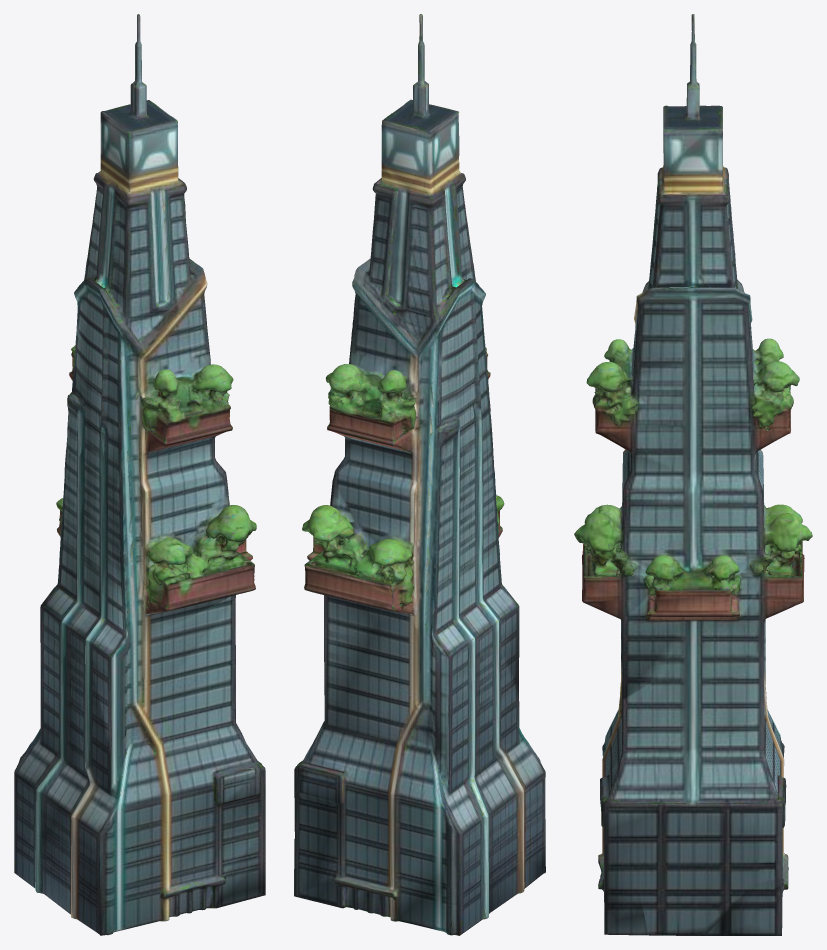
The model's file is skyscraper.glb.
The picture shows the model from 3 angles, left to right: view 1: azimuth 30°, elevation 25°; view 2: azimuth 150°, elevation 25°; view 3: azimuth 270°, elevation 25°; orthographic projection.
Visible parts, largest first — view 1: Mesh_0; view 2: Mesh_0; view 3: Mesh_0.
Part boxes in pixels (x1,y1,x2,y2): Mesh_0: (14,14,265,935); Mesh_0: (294,14,545,935); Mesh_0: (574,14,812,935).
Bounding box in the file's own units: 0.4062 × 1.91 × 0.4691.
1 material, 1 textured.
